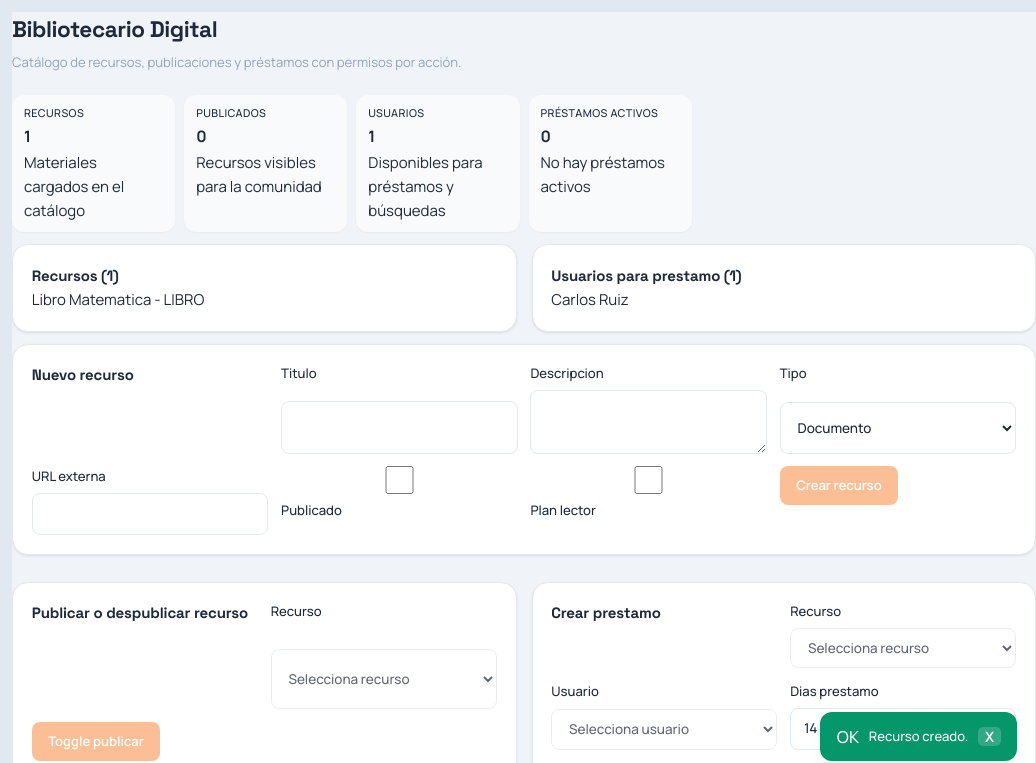
Test case: BibliotecarioDigitalPage › shows backend error when create resource fails
The image size is (1036, 763).
Expected: the heading "Recursos (1)" is shown, [32, 266, 119, 285]
Type "Guia de Historia" into the field labelled "Titulo" at point(399, 428), box [281, 401, 518, 454]
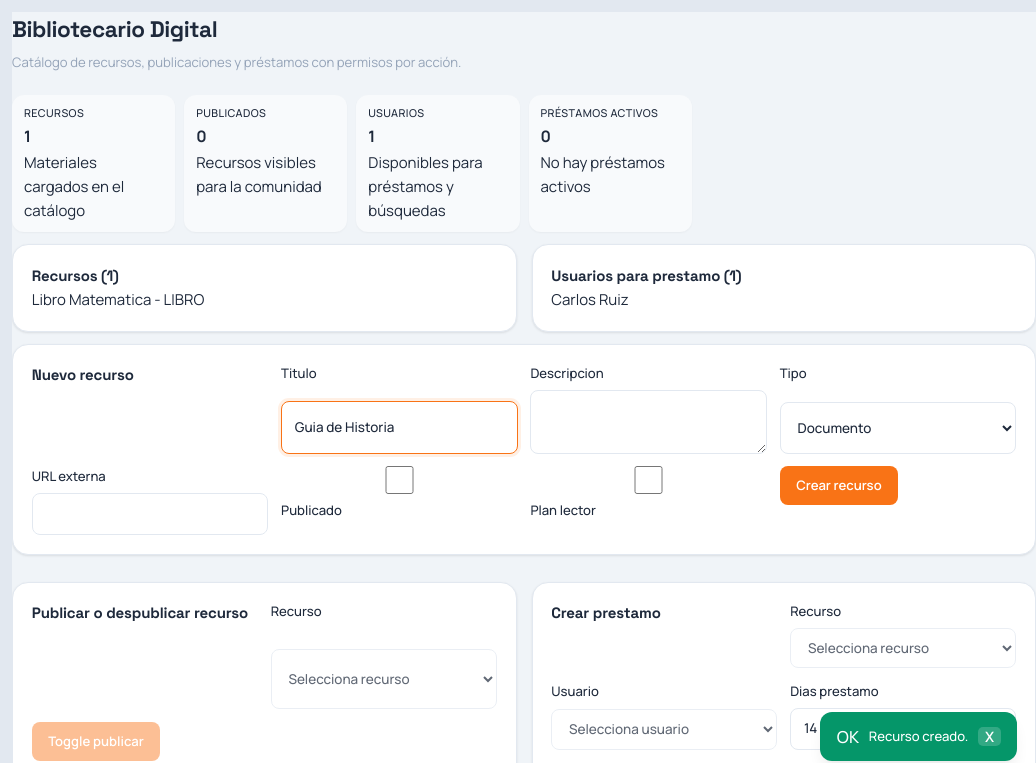
Click the button "Crear recurso" at point(839, 486), box [780, 466, 898, 505]
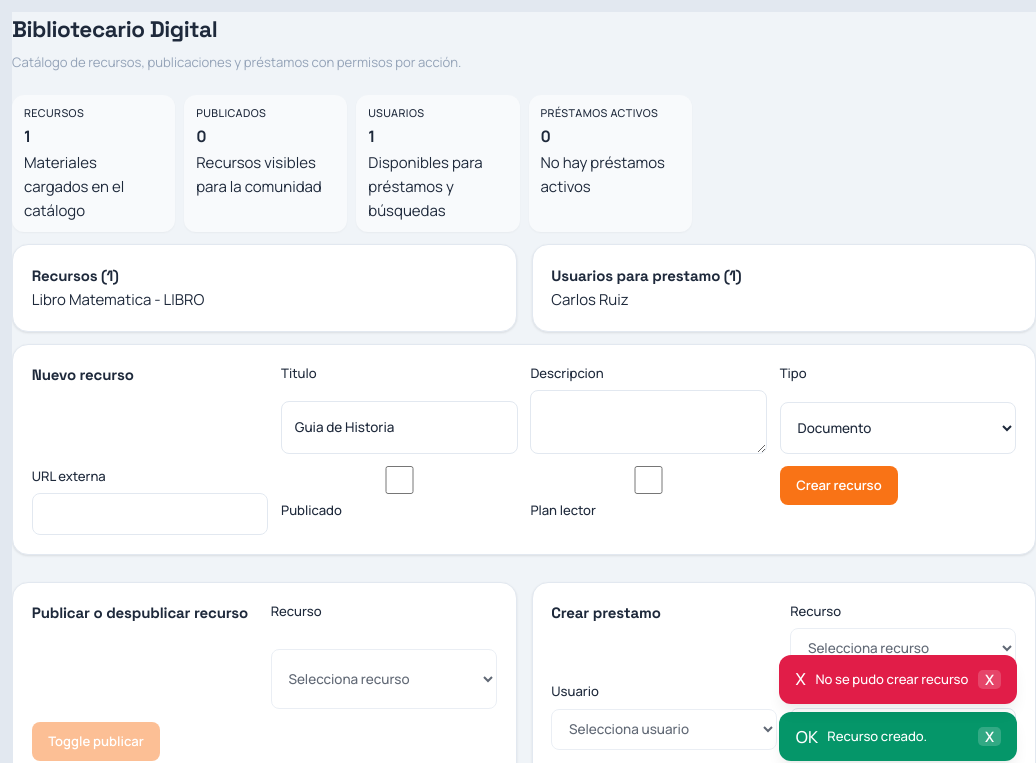
Result: the text "No se pudo crear recurso" is shown at [815, 669, 968, 690]
